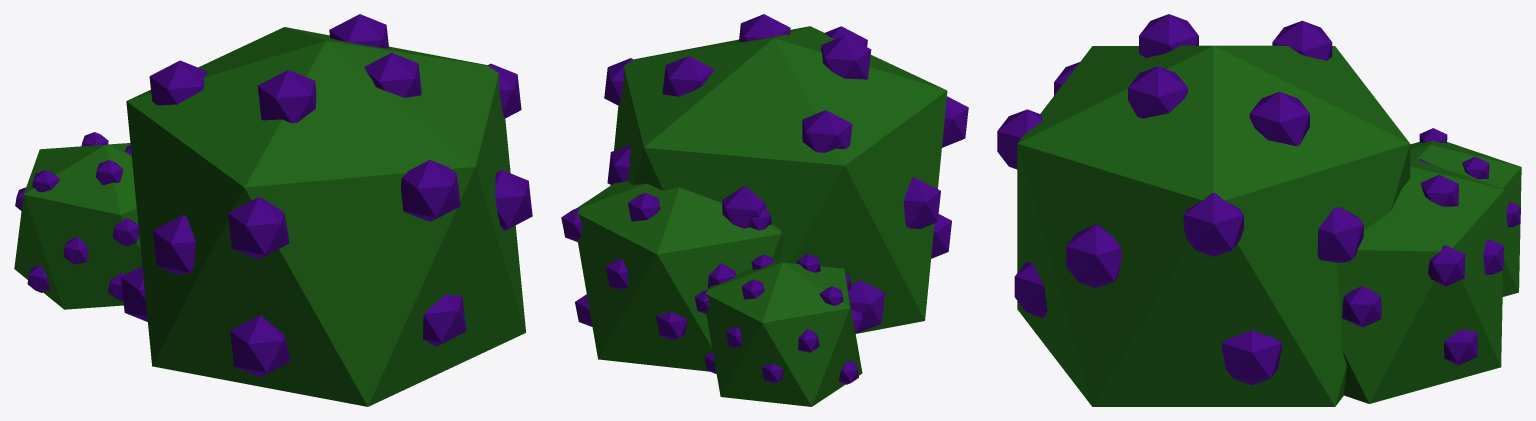
The model's file is Comida Recurso 2.glb.
The picture shows the model from 3 angles, left to right: view 1: azimuth 30°, elevation 25°; view 2: azimuth 150°, elevation 25°; view 3: azimuth 270°, elevation 25°; orthographic projection. The views are drawn at different scales.
Parts seen in each view (by area): view 1: Icosphere.002; view 2: Icosphere.002; view 3: Icosphere.002.
Part boxes in pixels (box(x1,y1,x2,y2)): Icosphere.002: box(14, 14, 532, 406); Icosphere.002: box(561, 14, 968, 406); Icosphere.002: box(997, 14, 1521, 406).
Size of the model in its own units: 1.99 by 1.4 by 2.27.
